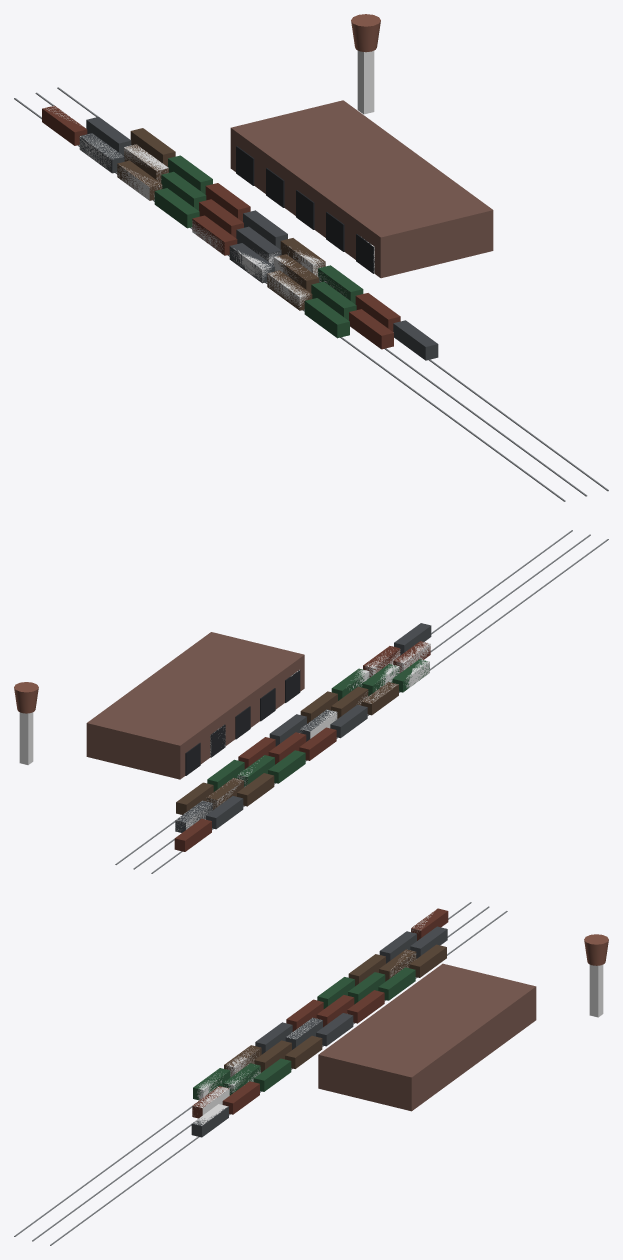
The model's file is theme-rail-2.glb.
The picture shows the model from 3 angles, top to bottom: view 1: azimuth 30°, elevation 25°; view 2: azimuth 150°, elevation 25°; view 3: azimuth 330°, elevation 25°; orthographic projection. The views are drawn at different scales.
Visible parts, largest first — view 1: 00_#7a5a50, 03_#6a3a2e, 06_#2f5a3c, 04_#4a4e52, 05_#5a4636, 01_#2a2c30_noshadow, 02_#8a8e92_noshadow, solid.030, 07_#8a5a4a, solid.012; view 2: 00_#7a5a50, 05_#5a4636, 03_#6a3a2e, 04_#4a4e52, 06_#2f5a3c, 01_#2a2c30_noshadow, 02_#8a8e92_noshadow, solid.030, 07_#8a5a4a; view 3: 00_#7a5a50, 06_#2f5a3c, 05_#5a4636, 04_#4a4e52, 03_#6a3a2e, 02_#8a8e92_noshadow, solid.030, 07_#8a5a4a, solid.021.
Boxes of the visible parts, <box> form: 00_#7a5a50: <box>230,100,493,278</box>; 03_#6a3a2e: <box>42,105,400,349</box>; 06_#2f5a3c: <box>154,155,363,338</box>; 04_#4a4e52: <box>79,117,438,360</box>; 05_#5a4636: <box>117,128,325,310</box>; 01_#2a2c30_noshadow: <box>236,146,374,273</box>; 02_#8a8e92_noshadow: <box>14,87,608,501</box>; solid.030: <box>357,50,374,114</box>; 07_#8a5a4a: <box>351,14,380,52</box>; solid.012: <box>267,271,309,307</box>; 00_#7a5a50: <box>86,632,304,779</box>; 05_#5a4636: <box>176,682,398,814</box>; 03_#6a3a2e: <box>174,641,430,851</box>; 04_#4a4e52: <box>175,623,431,832</box>; 06_#2f5a3c: <box>207,659,429,791</box>; 01_#2a2c30_noshadow: <box>185,670,300,775</box>; 02_#8a8e92_noshadow: <box>115,530,608,873</box>; solid.030: <box>19,712,33,764</box>; 07_#8a5a4a: <box>14,682,38,713</box>; 00_#7a5a50: <box>318,963,536,1111</box>; 06_#2f5a3c: <box>193,967,415,1100</box>; 05_#5a4636: <box>224,944,446,1076</box>; 04_#4a4e52: <box>191,926,447,1137</box>; 03_#6a3a2e: <box>192,908,448,1118</box>; 02_#8a8e92_noshadow: <box>14,902,507,1245</box>; solid.030: <box>589,964,603,1017</box>; 07_#8a5a4a: <box>584,934,608,965</box>; solid.021: <box>192,1087,229,1116</box>.
Bounding box in the file's own units: 62.45 × 20 × 220.
